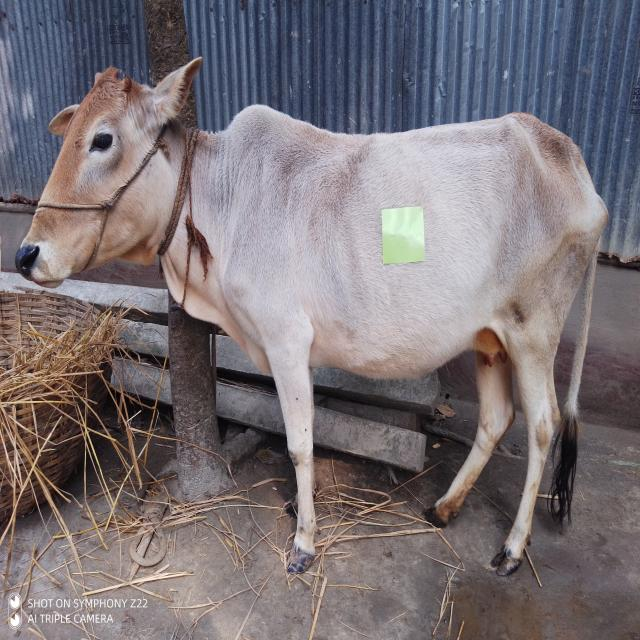badan_sapi: (266, 114, 590, 366)
sapi: (17, 53, 608, 579)
